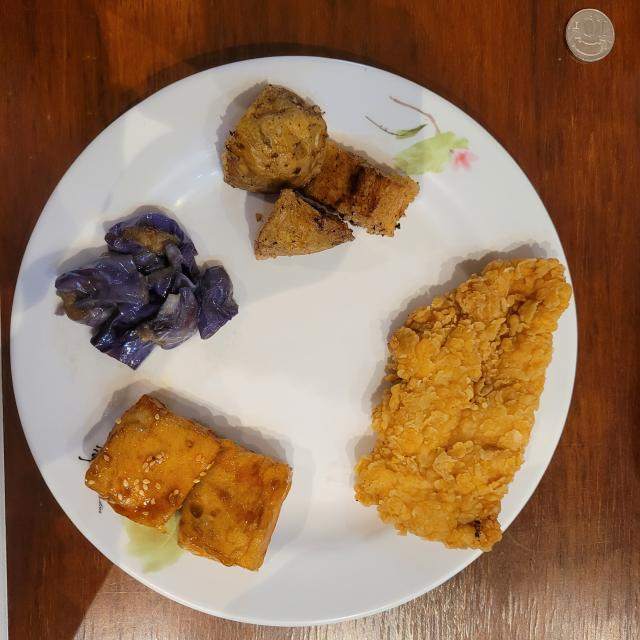coin: (565, 9, 615, 62)
creamy tofu: (86, 395, 291, 570)
fried chicken cutlet: (355, 259, 571, 551)
fried potato: (221, 85, 419, 260)
